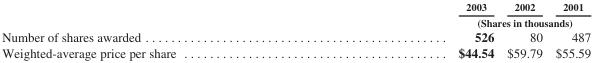table: (1, 0, 590, 59)
table column: (1, 0, 316, 59), (316, 0, 499, 59), (499, 0, 548, 59), (548, 0, 590, 59)
table column header: (1, 0, 590, 28)
table row: (1, 28, 590, 44), (1, 44, 590, 59), (1, 0, 590, 14), (1, 14, 590, 28)
table spanning cell: (316, 14, 590, 28)
